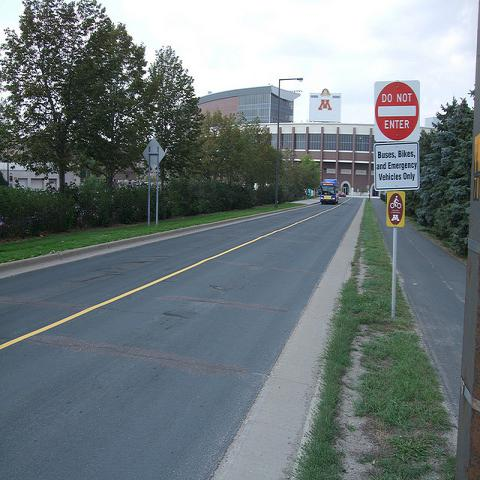bus: (320, 179, 338, 202)
